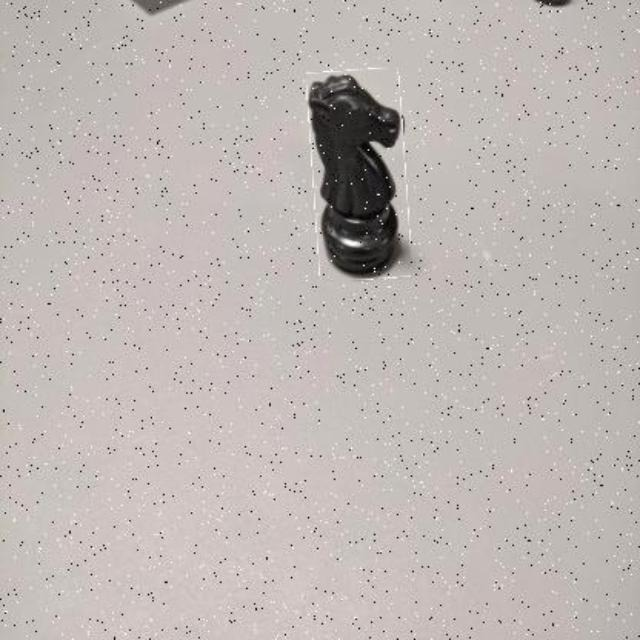black-knight: (311, 70, 409, 280)
